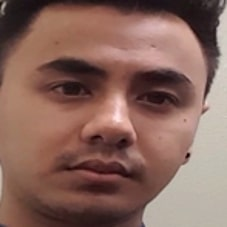drowsy: (34, 50, 194, 196)
